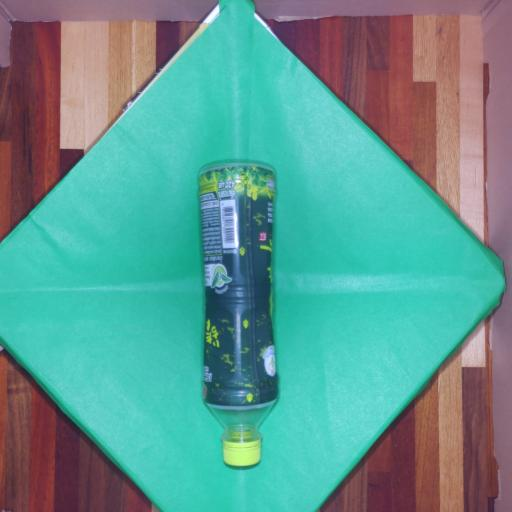bottle: (200, 165, 277, 466)
